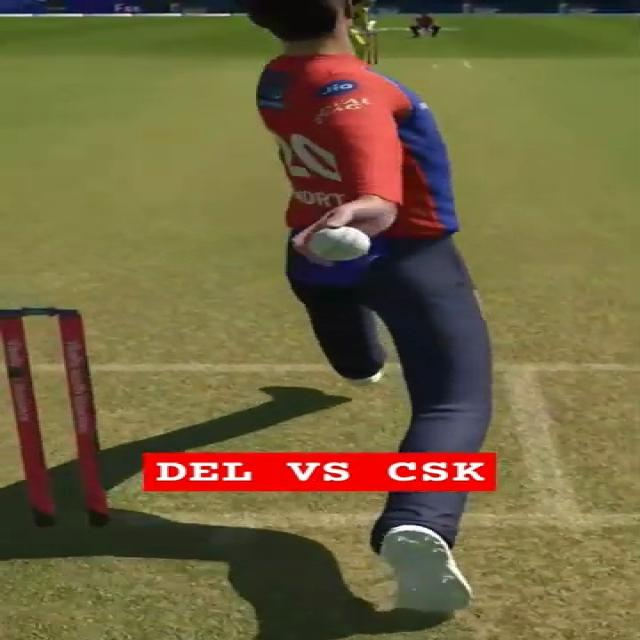ball: (306, 227, 370, 261)
